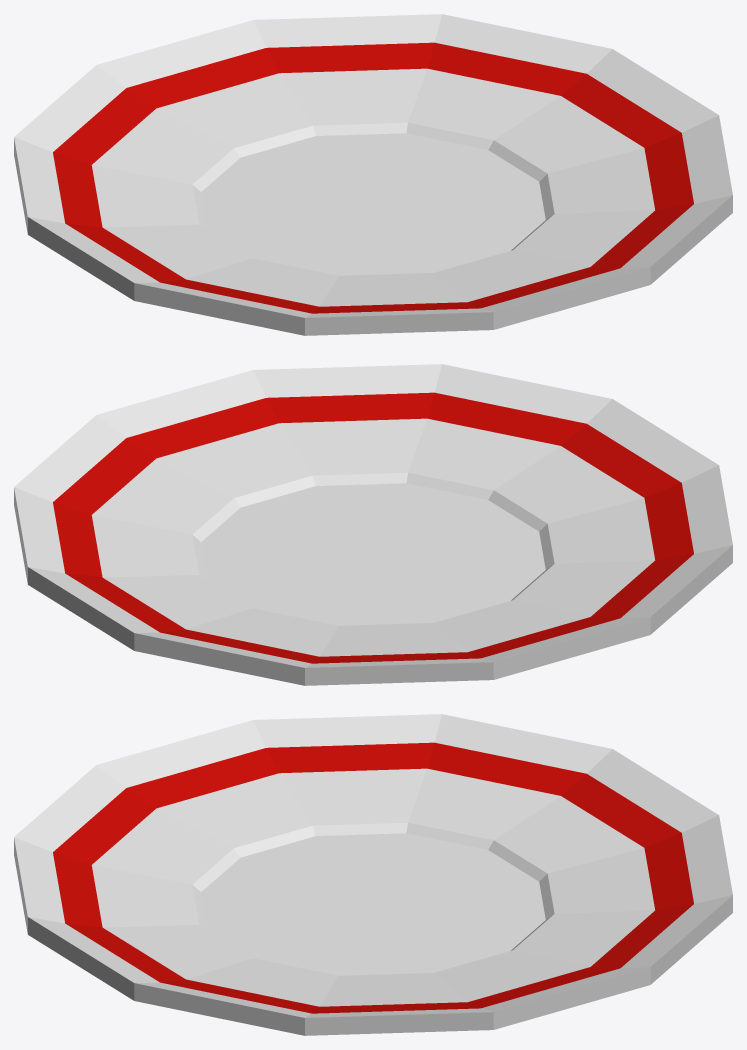
File: C_Plate_Big_1.fbx
3 views of the same model, one above another, from view 1: azimuth 30°, elevation 25°; view 2: azimuth 150°, elevation 25°; view 3: azimuth 270°, elevation 25° (orthographic).
Parts seen in each view (by area): view 1: C_Plate_Big_1; view 2: C_Plate_Big_1; view 3: C_Plate_Big_1.
Boxes of the visible parts, left/top/right/bottom form: C_Plate_Big_1: left=14, top=14, right=732, bottom=335; C_Plate_Big_1: left=14, top=364, right=732, bottom=685; C_Plate_Big_1: left=14, top=714, right=732, bottom=1035.
Bounding box in the file's own units: 154 × 154 × 14.67.
